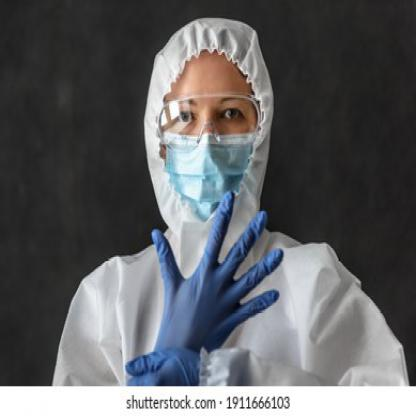glove: (151, 190, 283, 351), (125, 348, 200, 386)
